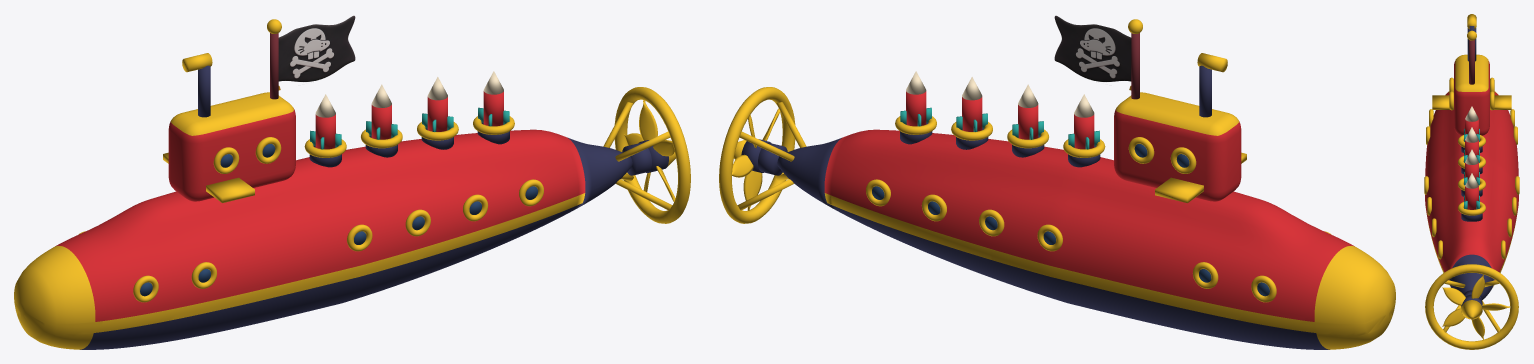
3 renders of one model, left to right at view 1: azimuth 30°, elevation 25°; view 2: azimuth 150°, elevation 25°; view 3: azimuth 270°, elevation 25°, orthographic. The views are drawn at different scales.
Parts seen in each view (by area): view 1: hull, Grid, Cylinder.027; view 2: hull, Grid, Cylinder.027; view 3: hull, Cylinder.027.
Part boxes in pixels (x1=…): hull: x1=14, y1=19, x2=690, y2=349; Grid: x1=278, y1=15, x2=355, y2=90; Cylinder.027: x1=623, y1=100, x2=675, y2=201; hull: x1=719, y1=19, x2=1395, y2=349; Grid: x1=1054, y1=15, x2=1131, y2=90; Cylinder.027: x1=732, y1=108, x2=780, y2=210; hull: x1=1424, y1=14, x2=1519, y2=349; Cylinder.027: x1=1442, y1=274, x2=1509, y2=339.
Bounding box in the file's own units: 1.42 × 0.5961 × 0.2647.
Materials: 3 (3 with a texture image).
